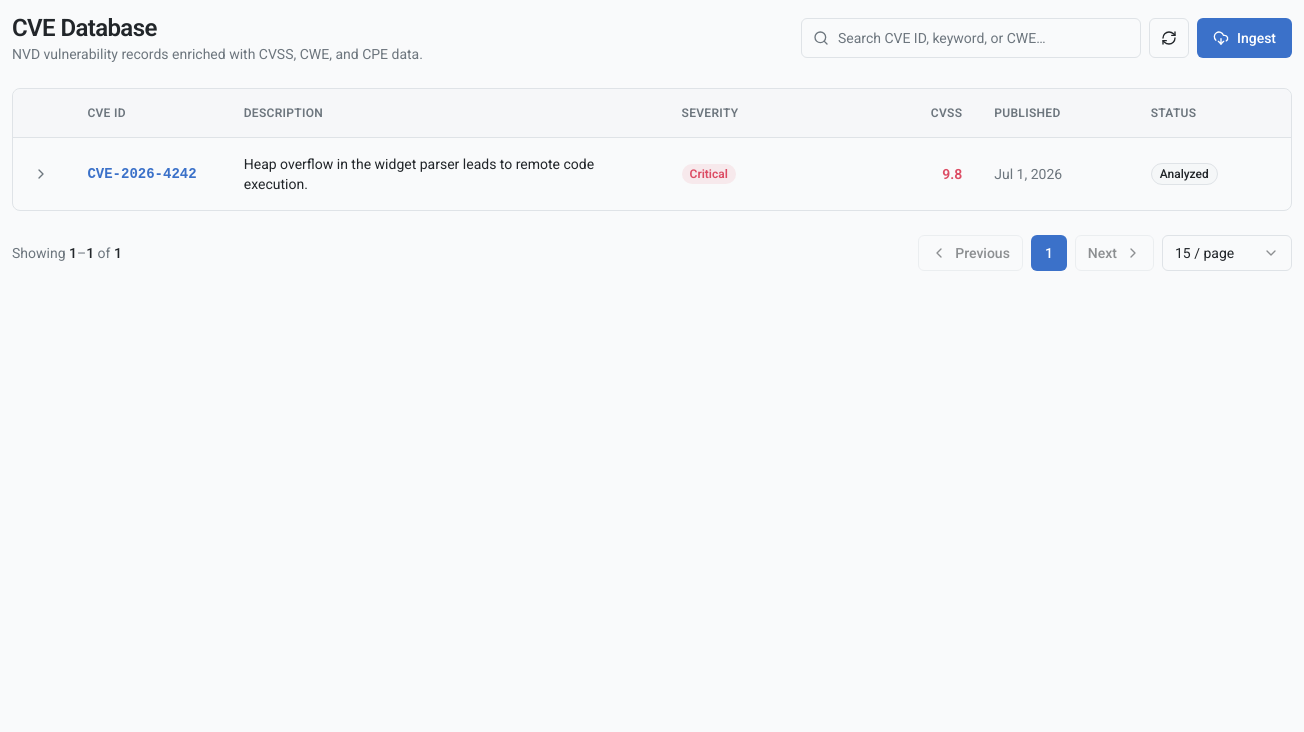
Test: CveDatabaseView › renders a CVE row and expands it into the detail panel
The image size is (1304, 732).
expect the text "CVE-2026-4242" is shown: met, box [87,164,197,184]
expect the text "9.8" is shown: met, box [942,166,962,182]
What coordinates should you click on to do the following:
click the button named "Expand row"
I would click on:
 (41, 174)
Its box is [29,162,53,186].
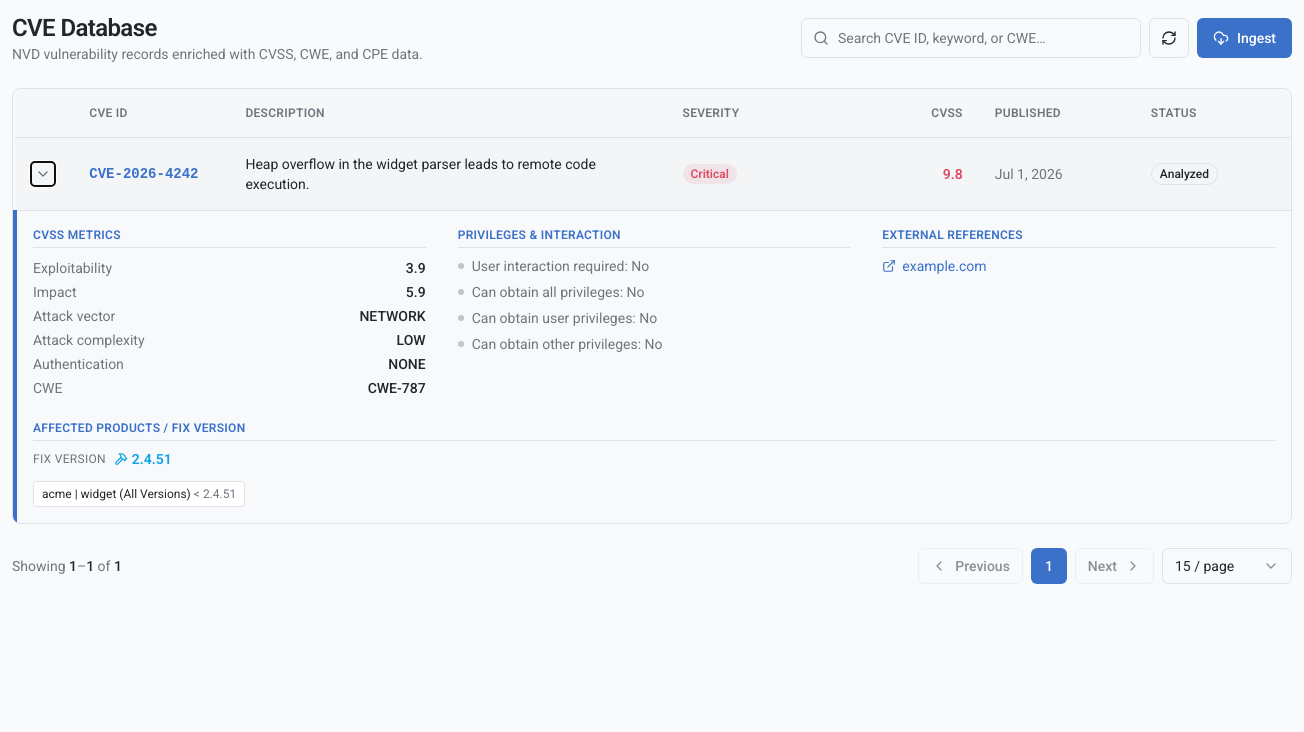
expect the text "CWE-787" is shown: met, box [368,378,426,398]
expect the text "acme | widget (All Versions)" is shown: met, box [42,486,191,500]
